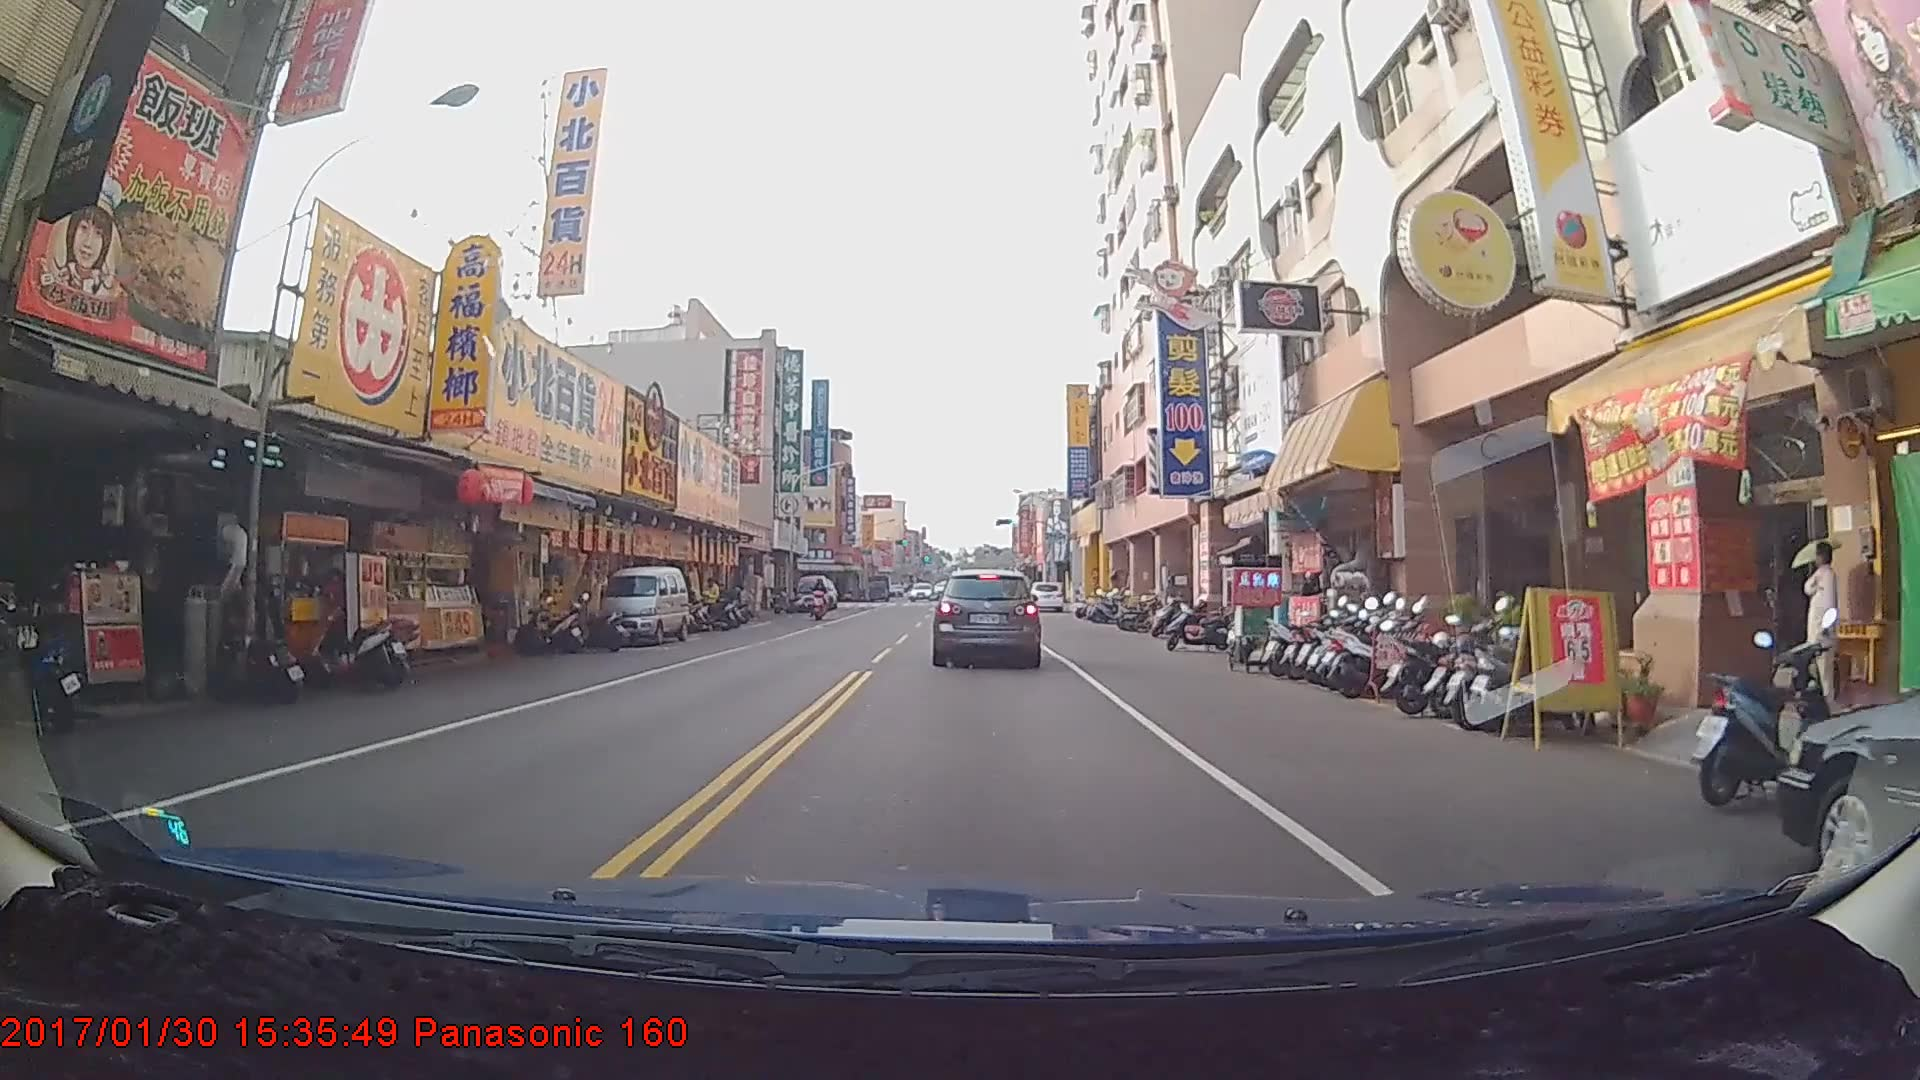pedestrian: (1788, 539, 1846, 729), (694, 575, 722, 626)
rider: (808, 575, 832, 621)
vehicle: (1778, 589, 1920, 972), (933, 565, 1042, 669), (591, 564, 688, 644), (797, 572, 832, 610), (1029, 582, 1063, 613)
